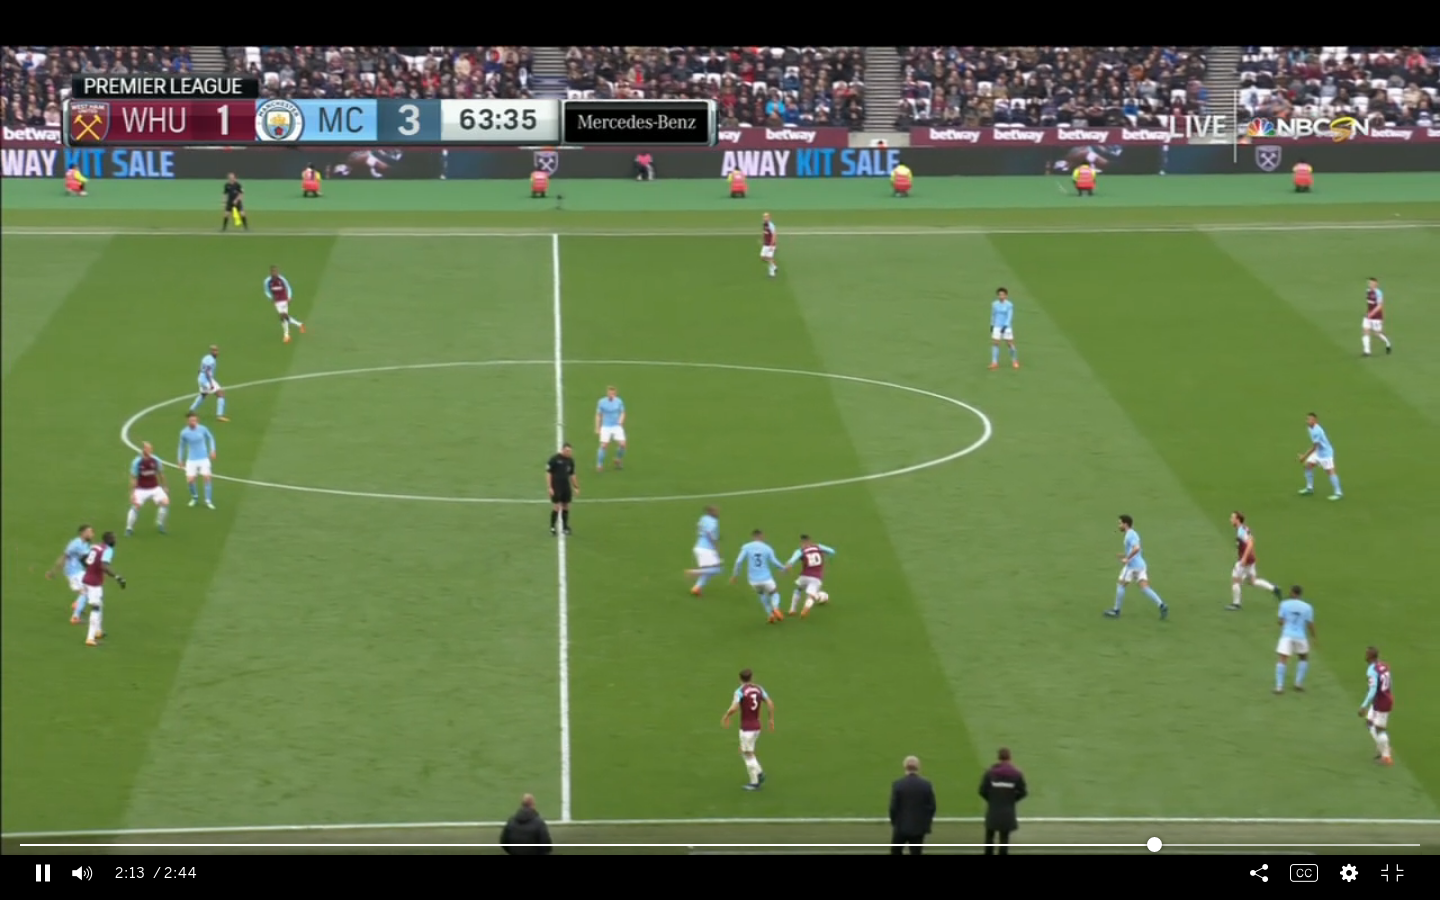referee: (545, 442, 579, 542), (216, 166, 252, 240)
soccer player: (721, 659, 781, 799), (1105, 509, 1173, 628), (1352, 640, 1404, 769), (1272, 576, 1322, 700), (730, 516, 785, 626), (118, 436, 173, 539), (79, 529, 124, 646), (170, 412, 221, 512), (41, 529, 93, 626), (1228, 506, 1275, 614), (682, 500, 730, 605), (1295, 408, 1345, 506), (587, 383, 633, 472), (785, 531, 832, 614), (985, 279, 1025, 374), (187, 342, 233, 422), (258, 262, 302, 343), (1361, 274, 1393, 360), (759, 208, 781, 280)
soccerball: (815, 586, 833, 608)
